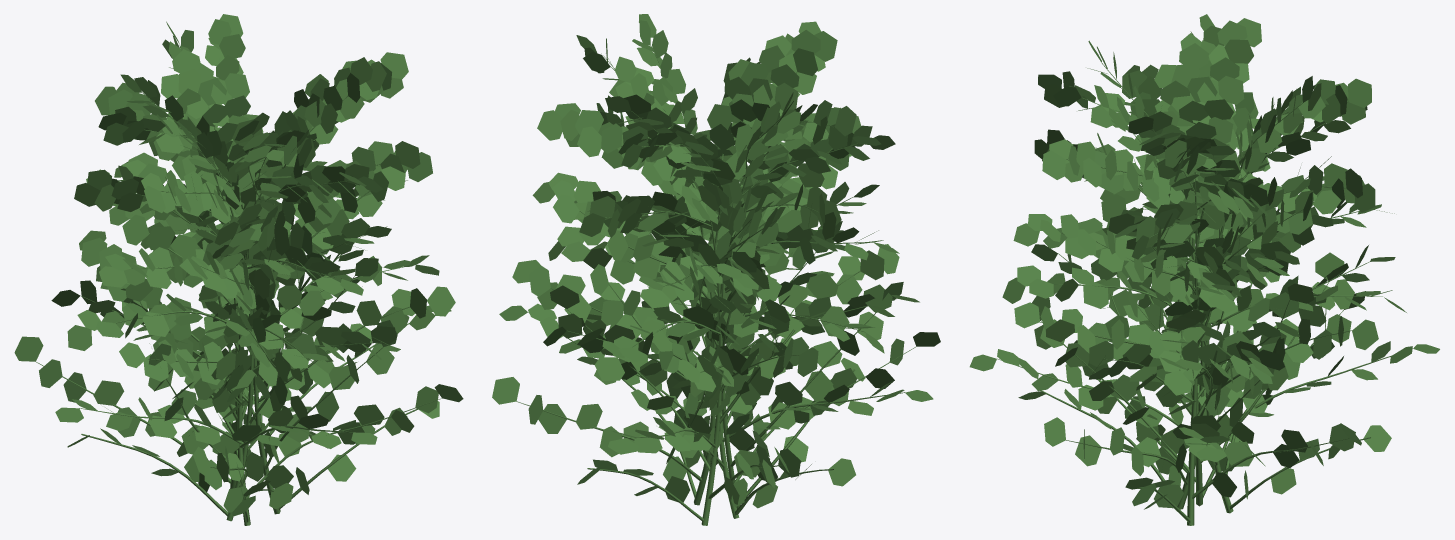
File: _bush2.fbx
3 views of the same model, side by side, from view 1: azimuth 30°, elevation 25°; view 2: azimuth 150°, elevation 25°; view 3: azimuth 270°, elevation 25° (orthographic).
Visible parts, largest first — view 1: Bush2; view 2: Bush2; view 3: Bush2.
Part boxes in pixels (box(x1,y1,x2,y2)): Bush2: box(14, 14, 463, 525); Bush2: box(492, 14, 940, 525); Bush2: box(969, 14, 1439, 525).
Bounding box in the file's own units: 271 × 285 × 271.
